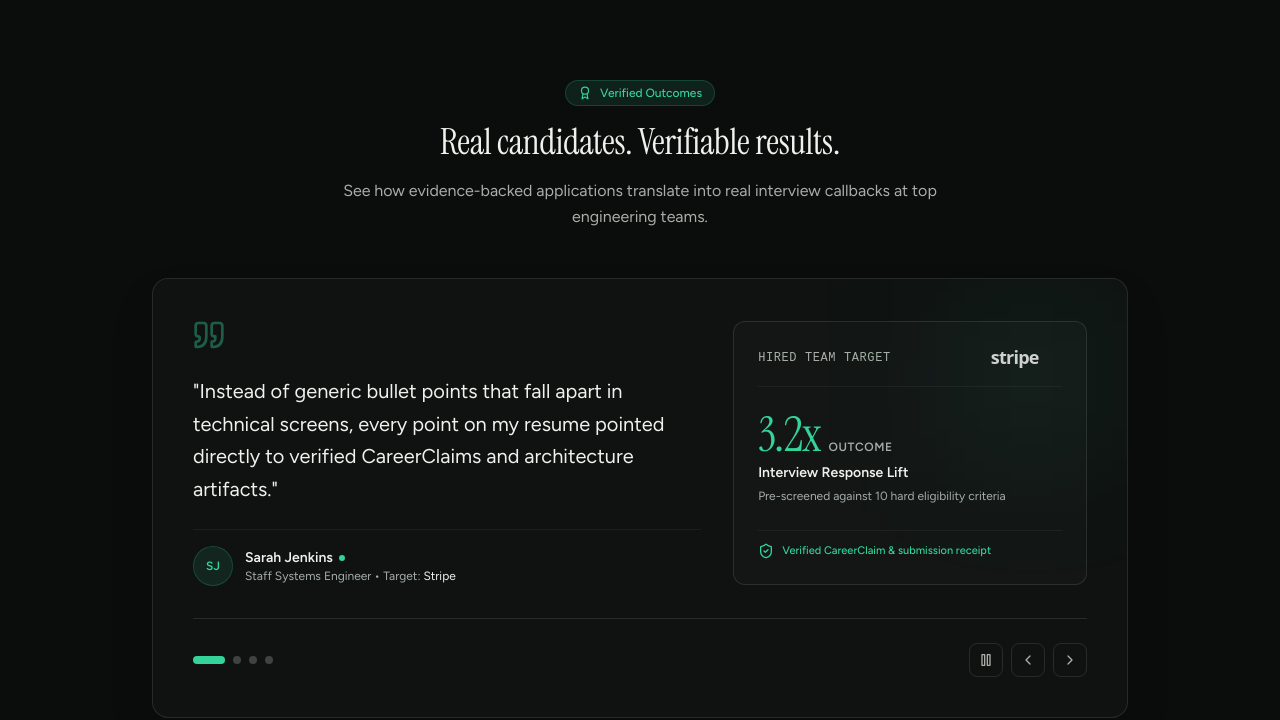
it: SocialProofCarousel (T-74, FR-CRO-07) › jumps directly to slide when clicking indicator tab
What coordinates should you click on to do the following:
click the tab named "go to slide 3: elena rostova"
I would click on:
 (253, 660)
Its box is [249, 656, 257, 664].
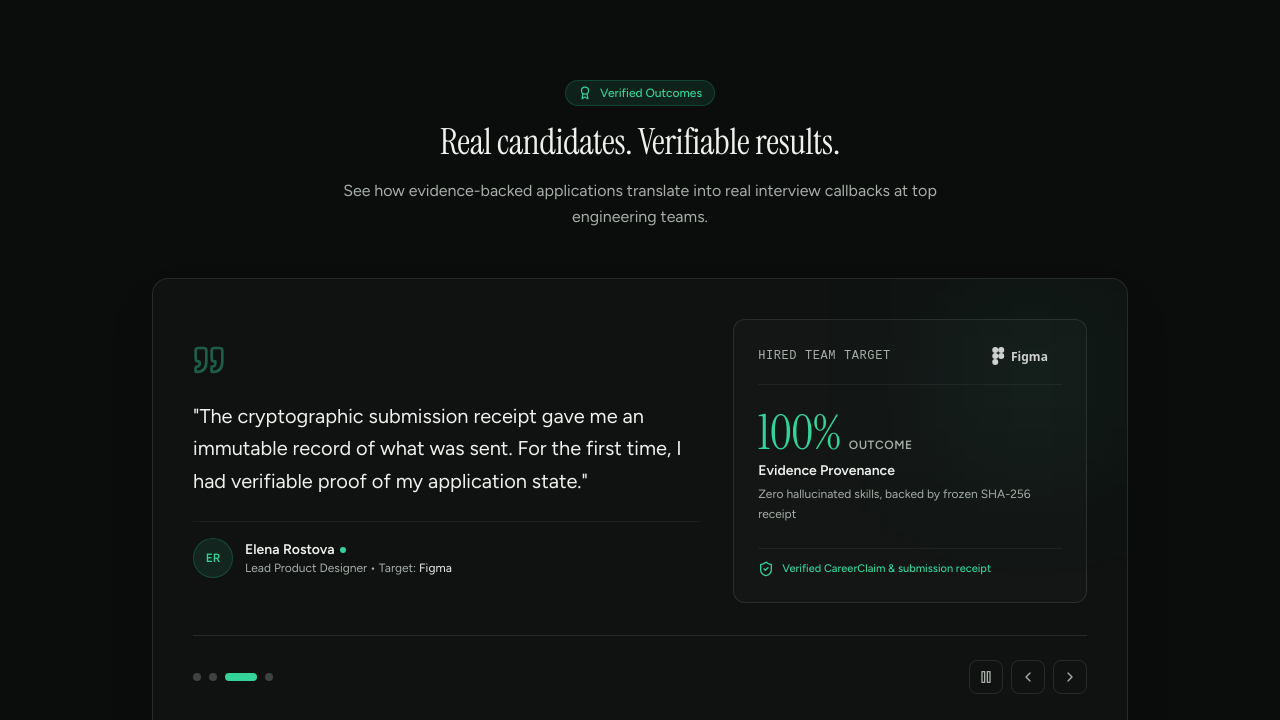
Check: the text "Elena Rostova" is shown, box [245, 540, 334, 560]
Check: the text "100%" is shown, box [758, 409, 841, 457]
Check: the picture with alt text "Figma logo" is shown, box [987, 344, 1062, 368]
